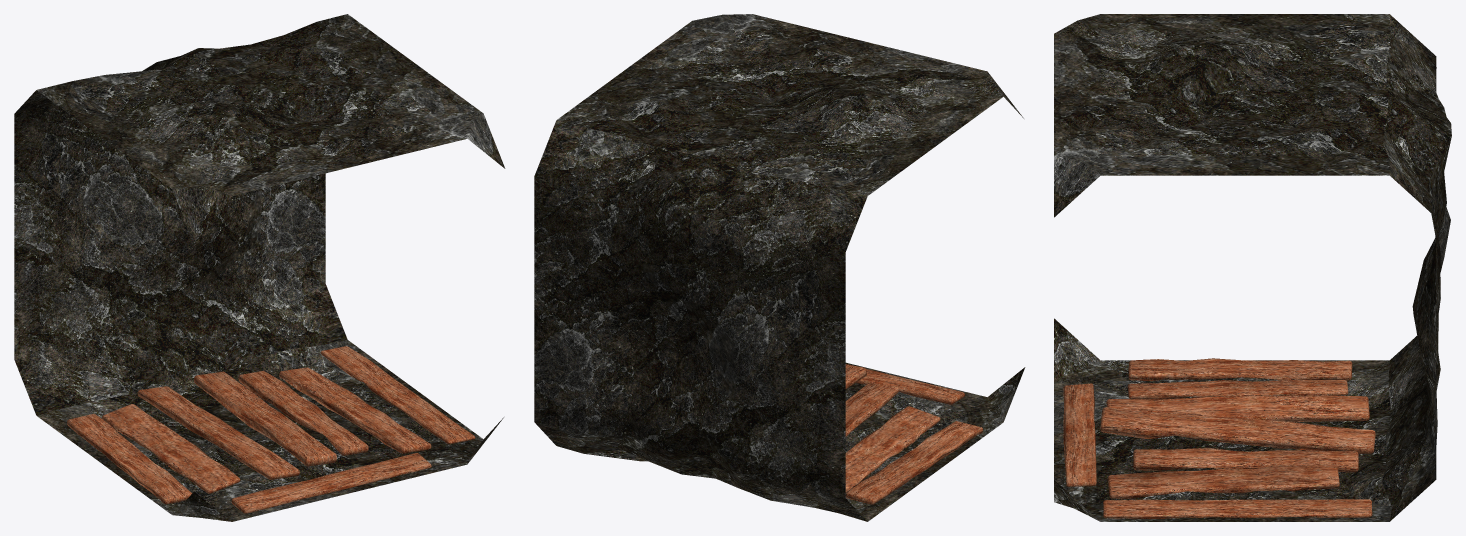
File: Cave_005.fbx
3 views of the same model, side by side, from view 1: azimuth 30°, elevation 25°; view 2: azimuth 150°, elevation 25°; view 3: azimuth 270°, elevation 25° (orthographic). The views are drawn at different scales.
Parts seen in each view (by area): view 1: Cave.005; view 2: Cave.005; view 3: Cave.005.
Boxes of the visible parts, left/top/right/bottom form: Cave.005: left=14, top=14, right=505, bottom=521; Cave.005: left=534, top=14, right=1025, bottom=521; Cave.005: left=1054, top=14, right=1451, bottom=521.
Size of the model in its own units: 300 by 328 by 312.
